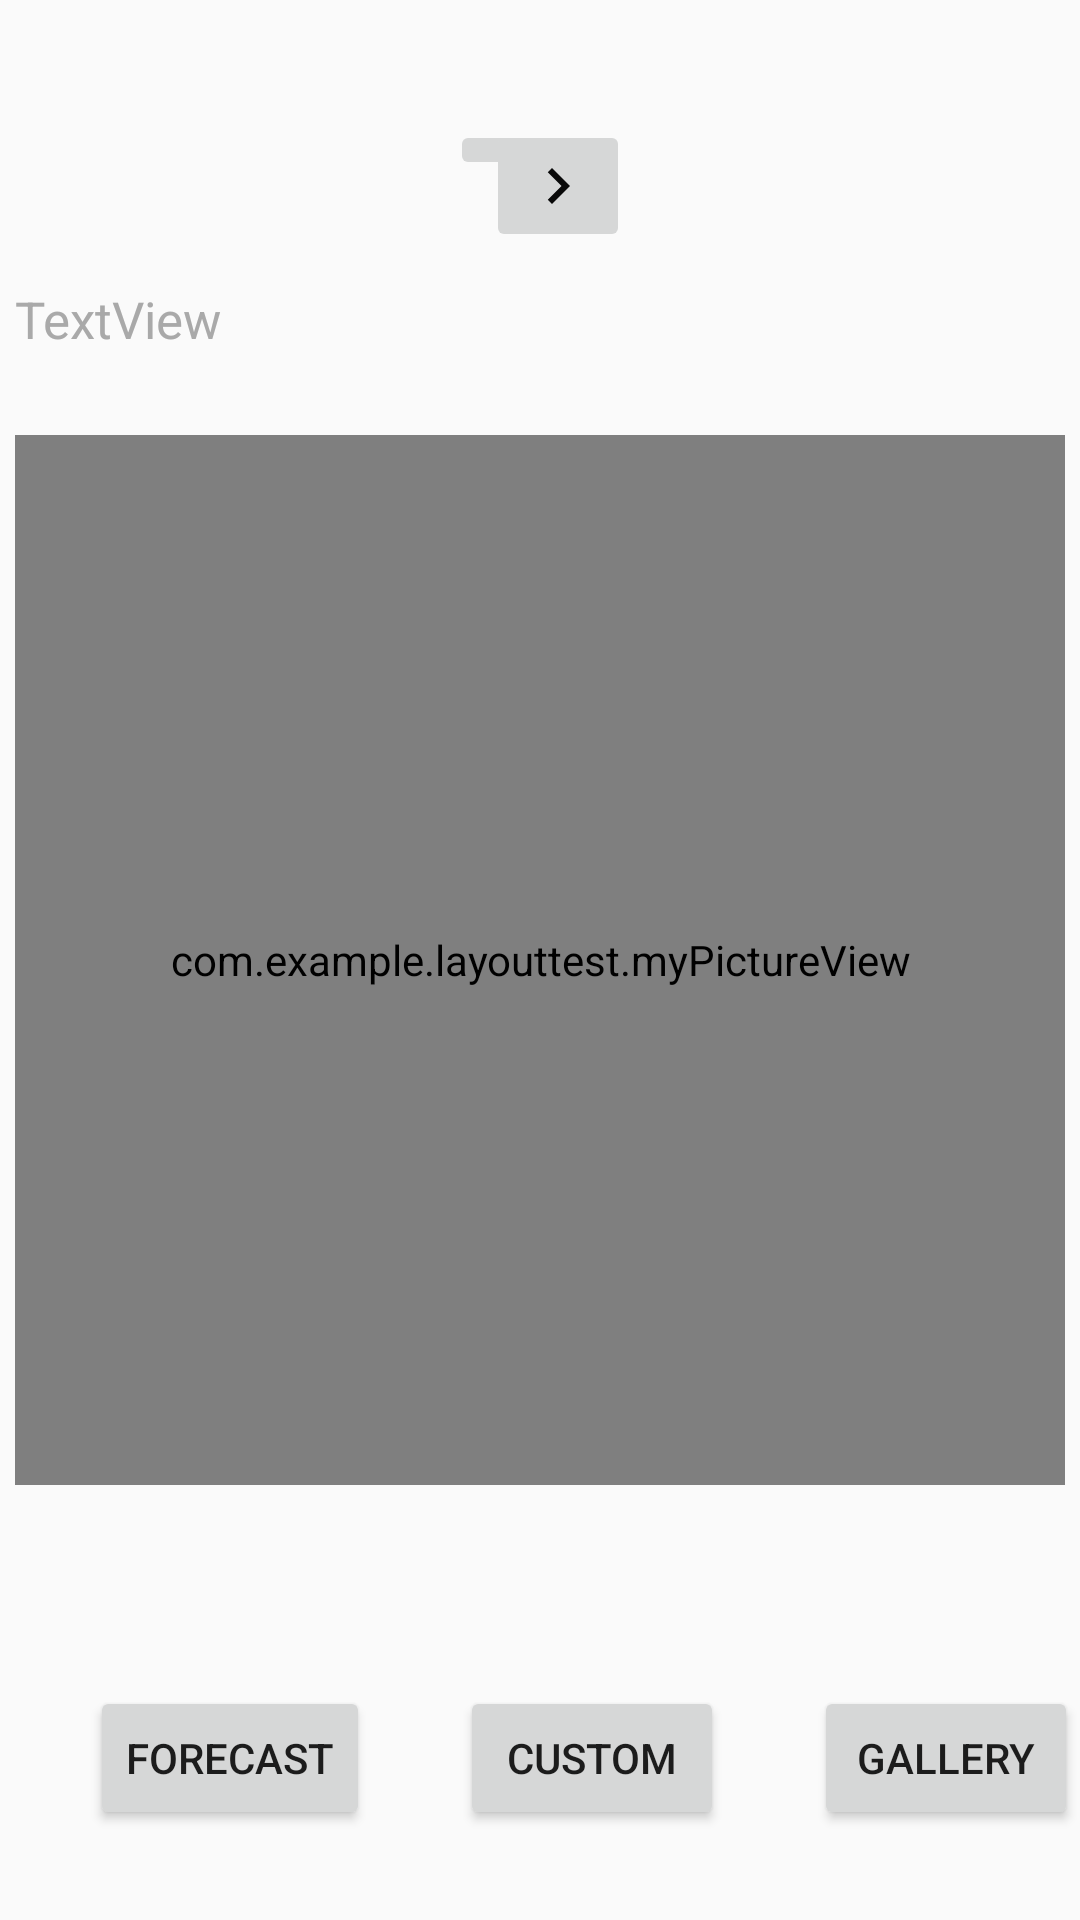

Point at icon controls on the screen. Image size 1080 × 1920, points as point (x, y).
chevron right: point (552, 186)
